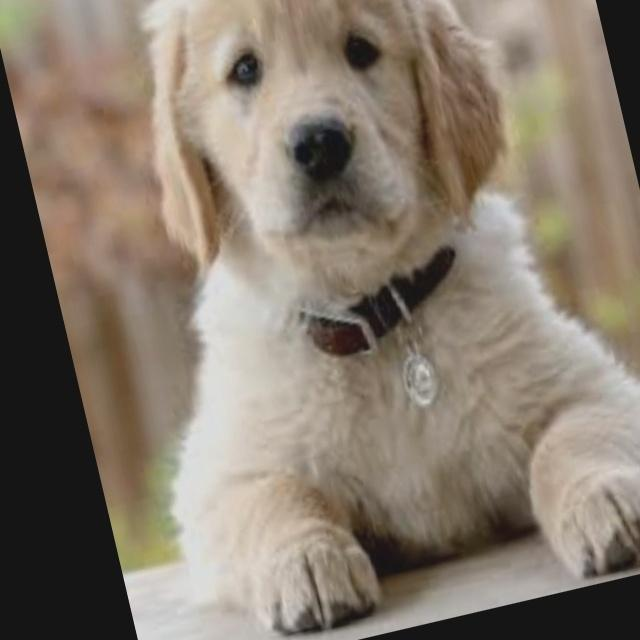dog: (91, 0, 557, 391)
